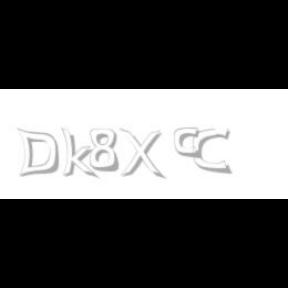8: (90, 128, 118, 172)
C: (194, 128, 231, 174)
D: (16, 128, 60, 178)
X: (119, 128, 163, 180)
c: (174, 128, 202, 160)
k: (61, 128, 99, 180)
